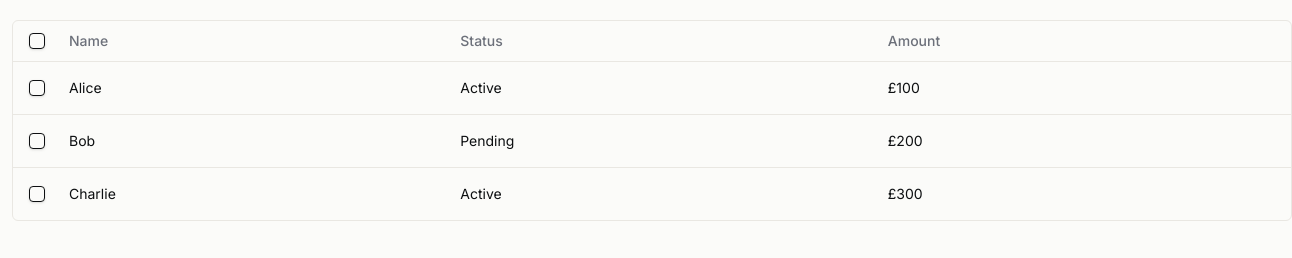
Test: DataGrid › selection › selects all rows when header checkbox is clicked
Step 1. Click the checkbox named "Select all rows" → click(37, 41), box [29,33,45,49]
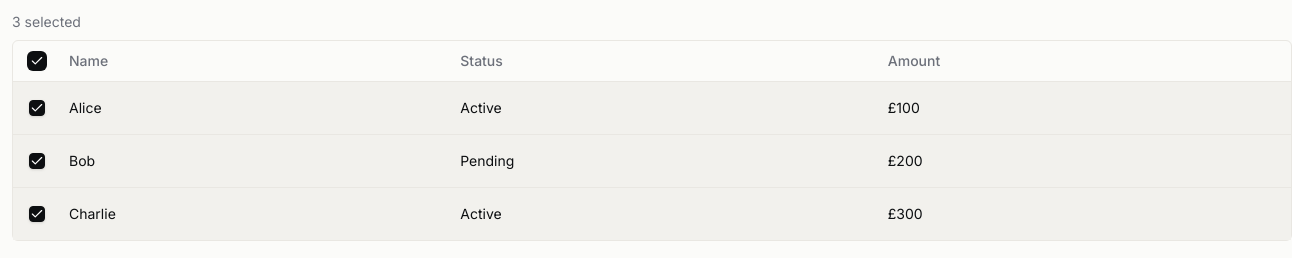
expect the checkbox named "Select row 1" is checked: met, box [29,100,45,116]
expect the checkbox named "Select row 2" is checked: met, box [29,152,45,168]
expect the checkbox named "Select row 3" is checked: met, box [29,206,45,222]
